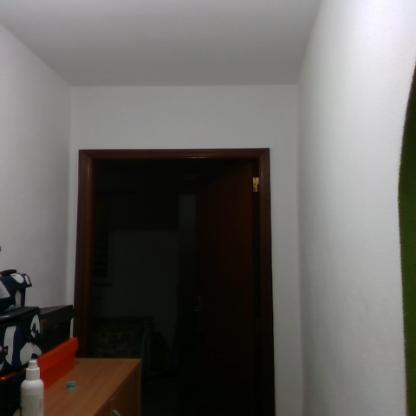open: (55, 127, 291, 415)
